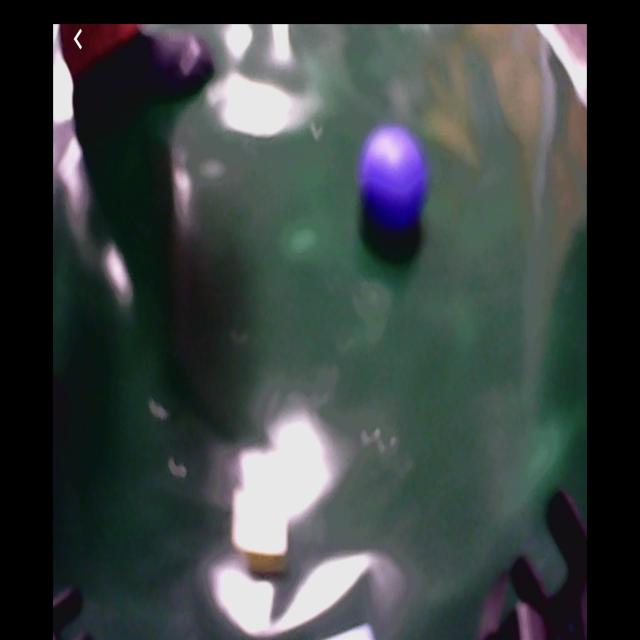ball: (363, 131, 429, 227)
